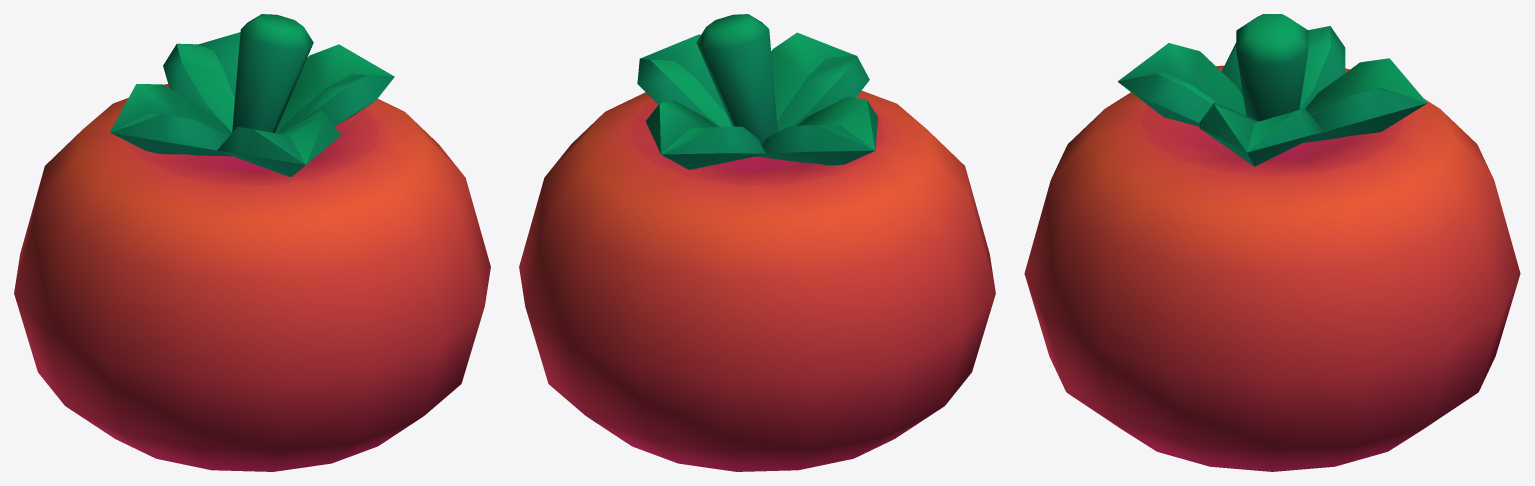
File: Tomato-EVTveOjwHG.glb
The picture shows the model from 3 angles, left to right: view 1: azimuth 30°, elevation 25°; view 2: azimuth 150°, elevation 25°; view 3: azimuth 270°, elevation 25°; orthographic projection. The views are drawn at different scales.
Parts seen in each view (by area): view 1: food_ingredient_tomato; view 2: food_ingredient_tomato; view 3: food_ingredient_tomato.
Part boxes in pixels (bbox=[...]): food_ingredient_tomato: bbox=[14, 14, 490, 471]; food_ingredient_tomato: bbox=[519, 14, 995, 471]; food_ingredient_tomato: bbox=[1024, 14, 1520, 471].
Size of the model in its own units: 0.75 by 0.7 by 0.75.
Materials: 1 (1 with a texture image).
